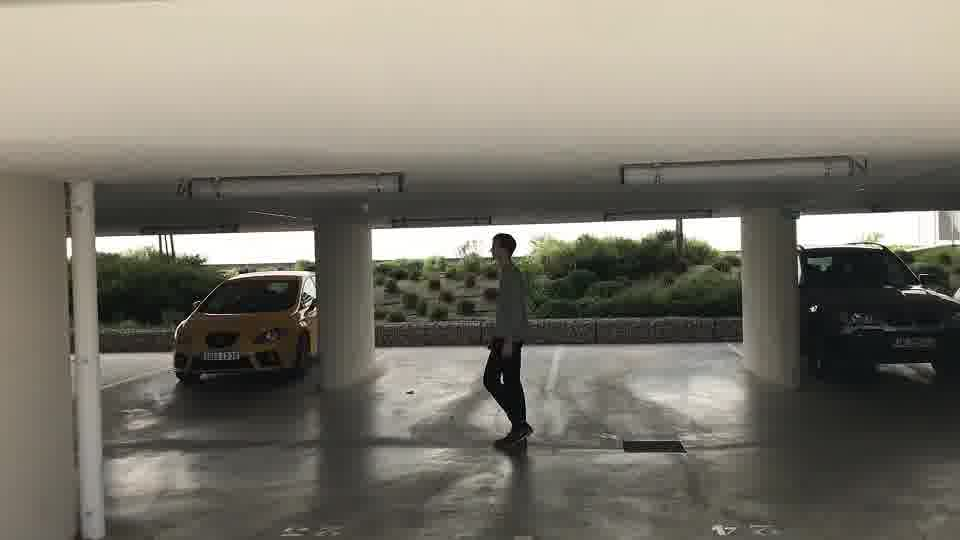jugador: (457, 232, 546, 455)
